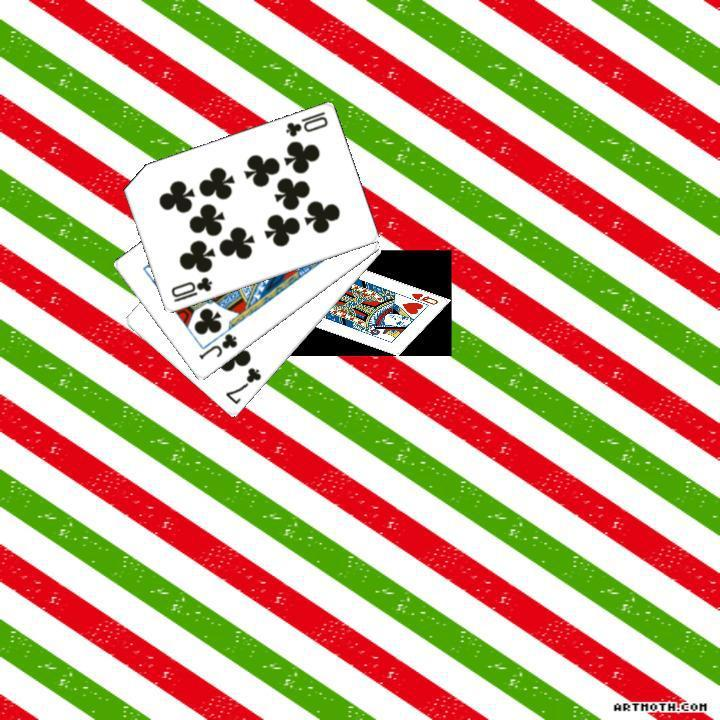10: (281, 108, 330, 139), (166, 273, 214, 304)
7: (221, 363, 264, 407)
J: (194, 329, 240, 362)
